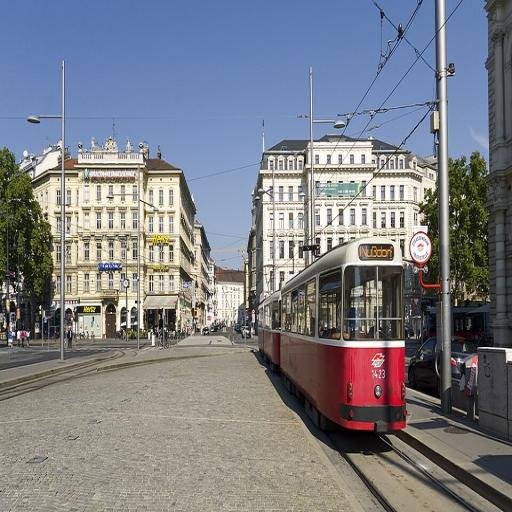E2-Tram: (255, 231, 410, 448)
